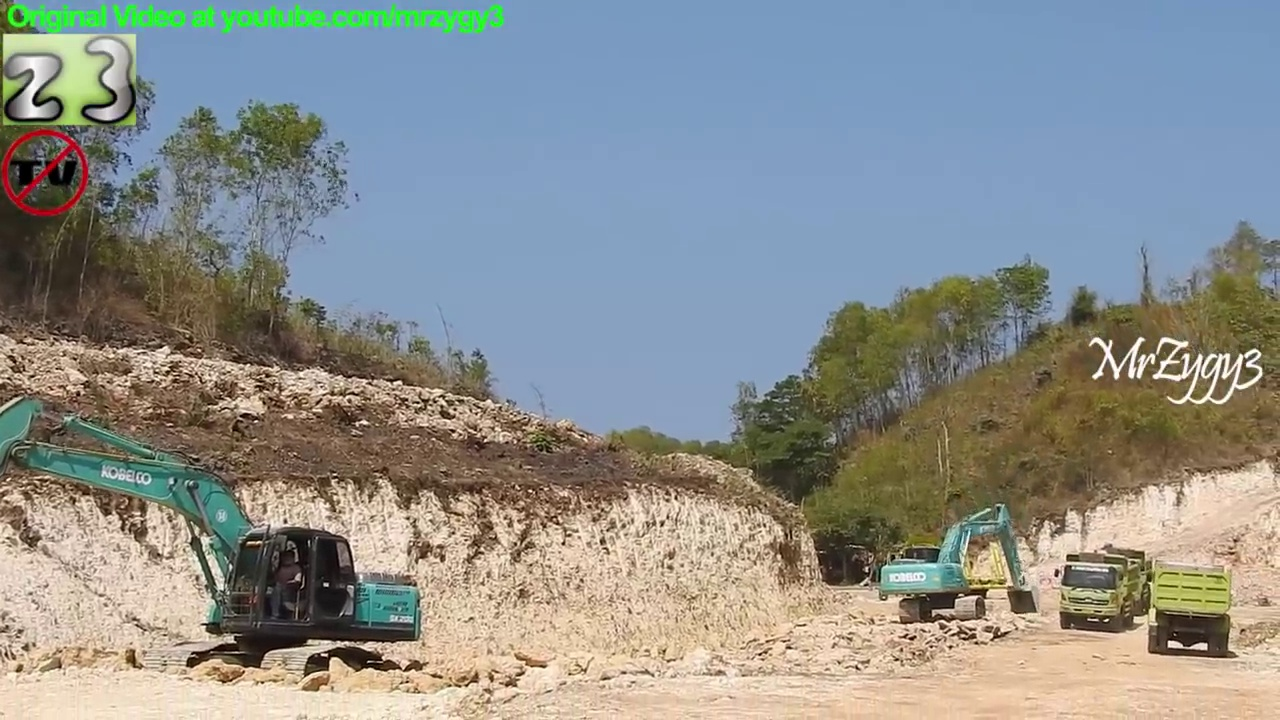excavator: (1, 386, 426, 685), (875, 500, 1044, 631)
truck: (1146, 552, 1236, 661), (1053, 548, 1138, 637), (1067, 541, 1157, 624)
